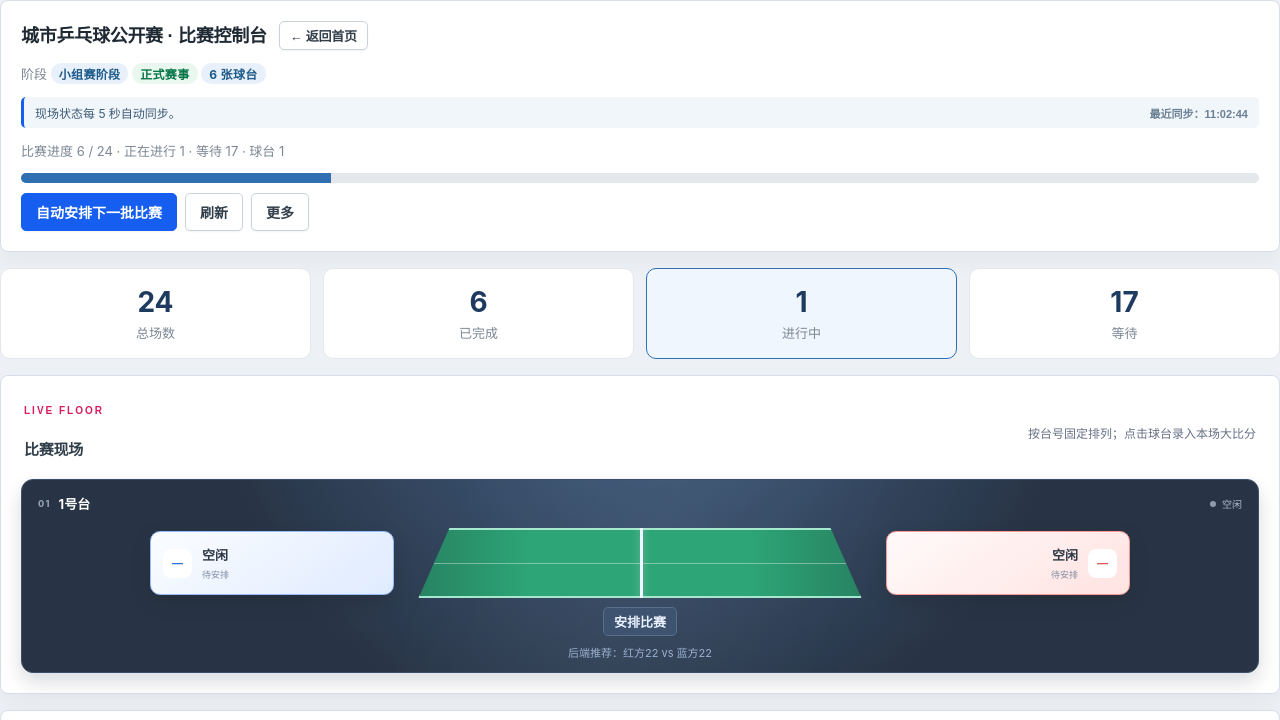
Test: C-D5 Console：球台与排台 › 安排比赛列出后端全部合法 next_playable，而不是前端选好的一场
Click the button "安排比赛".
click(640, 622)  # box [603, 607, 677, 636]
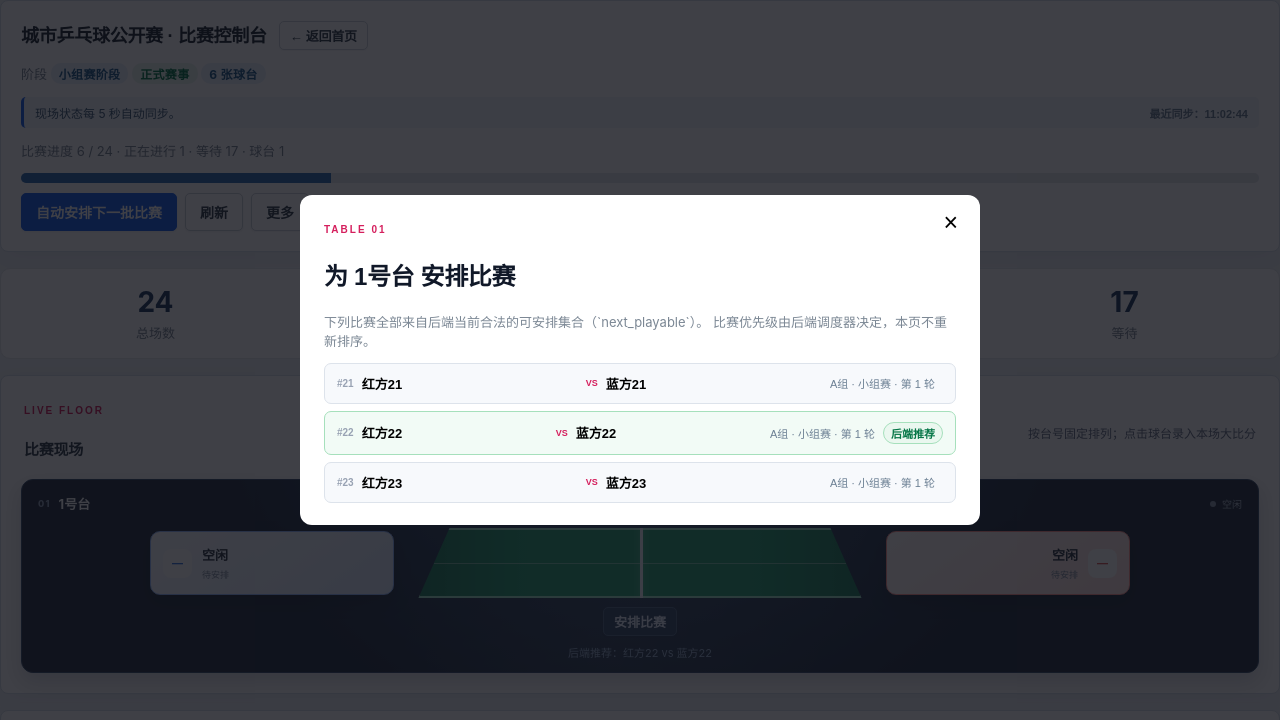
Result: the text "后端推荐" is shown at [883, 422, 943, 444]
Result: the text "本页不重新排序" is shown at [324, 314, 947, 349]
